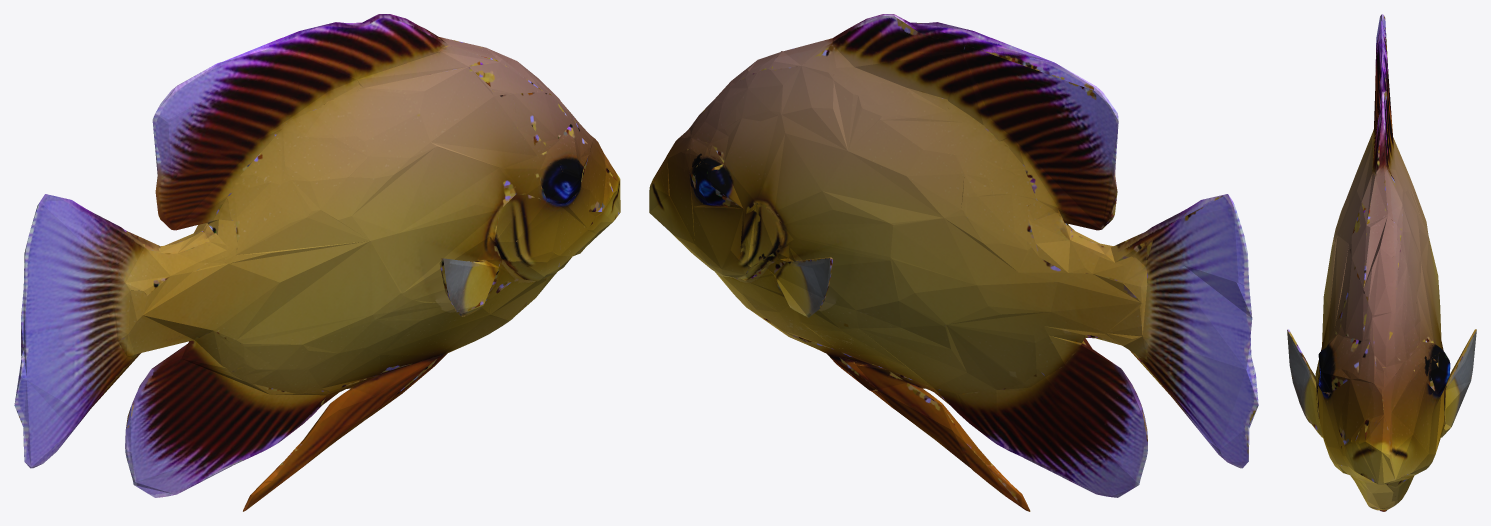
File: fish_0001_smpl23_resized.glb
3 renders of one model, left to right at view 1: azimuth 30°, elevation 25°; view 2: azimuth 150°, elevation 25°; view 3: azimuth 270°, elevation 25°, orthographic. The views are drawn at different scales.
Visible parts, largest first — view 1: world; view 2: world; view 3: world.
Boxes of the visible parts, x1=… form: world: x1=14, y1=14, x2=620, y2=511; world: x1=649, y1=14, x2=1258, y2=511; world: x1=1287, y1=14, x2=1476, y2=511.
Size of the model in its own units: 1.99 by 1.47 by 0.5142.
1 material, 1 textured.
